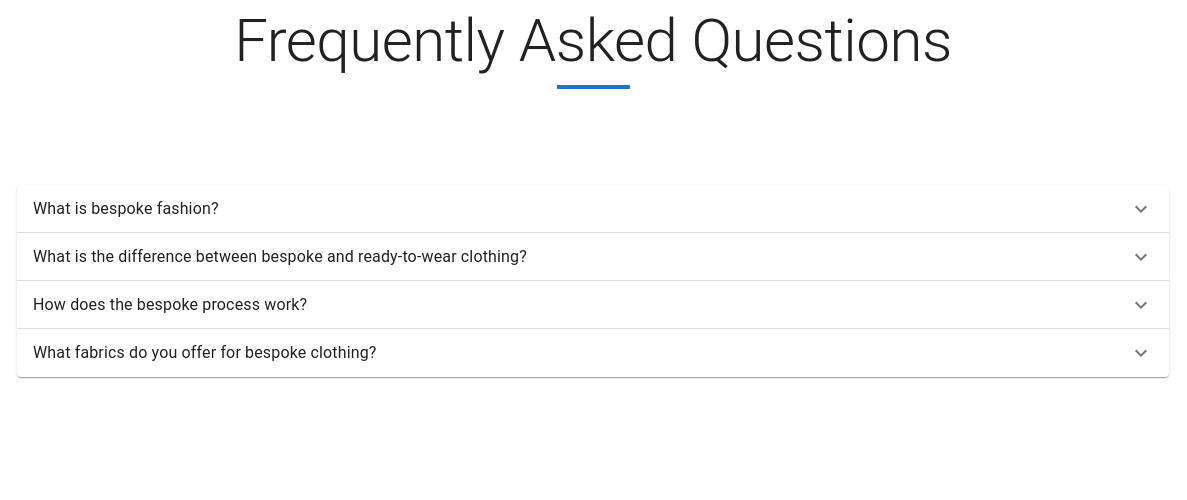
Test: ControlledAccordions › Accordion expands and shows details when clicked
Step 1. Click the button "What is bespoke fashion?" → x=126, y=208, box [33,197,1153,221]
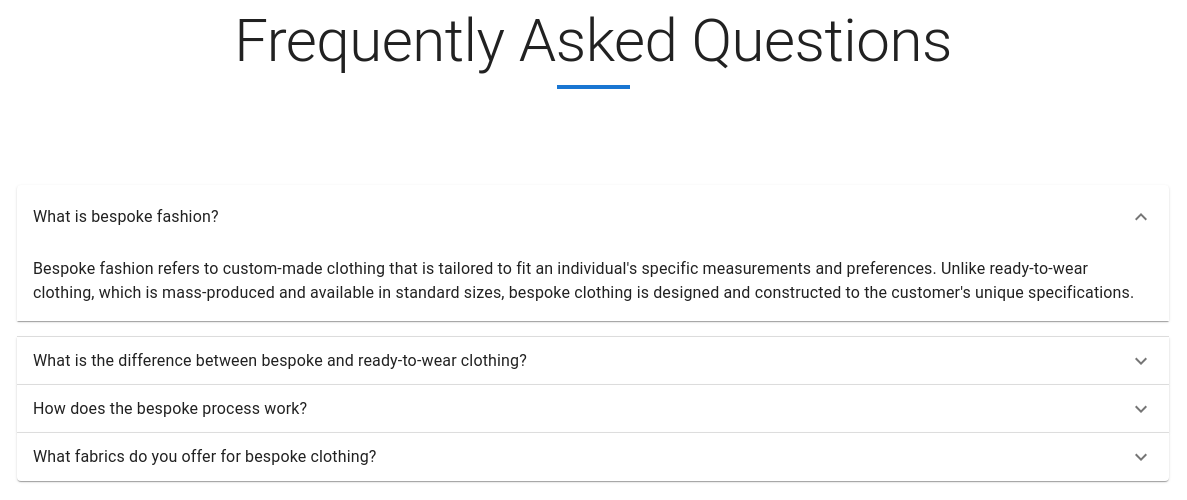
Now the text "Bespoke fashion refers to custom-made clothing" is shown, box [33,259,1134,302]
